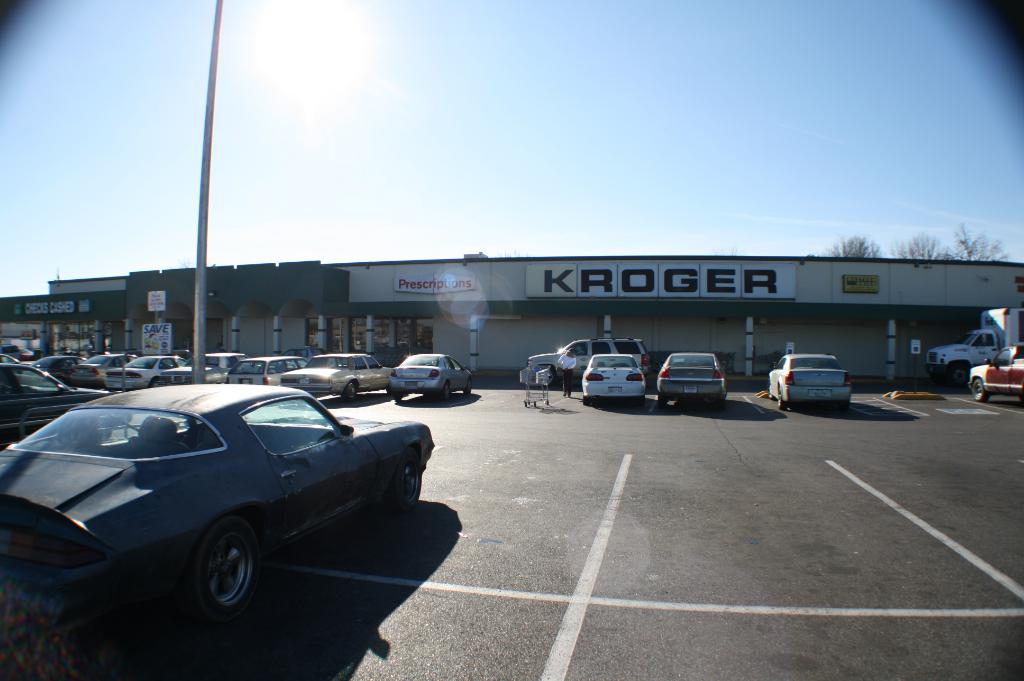Car: (7, 376, 417, 645), (0, 341, 469, 458), (527, 338, 653, 384), (768, 352, 848, 410), (650, 352, 726, 403), (582, 353, 646, 397)
